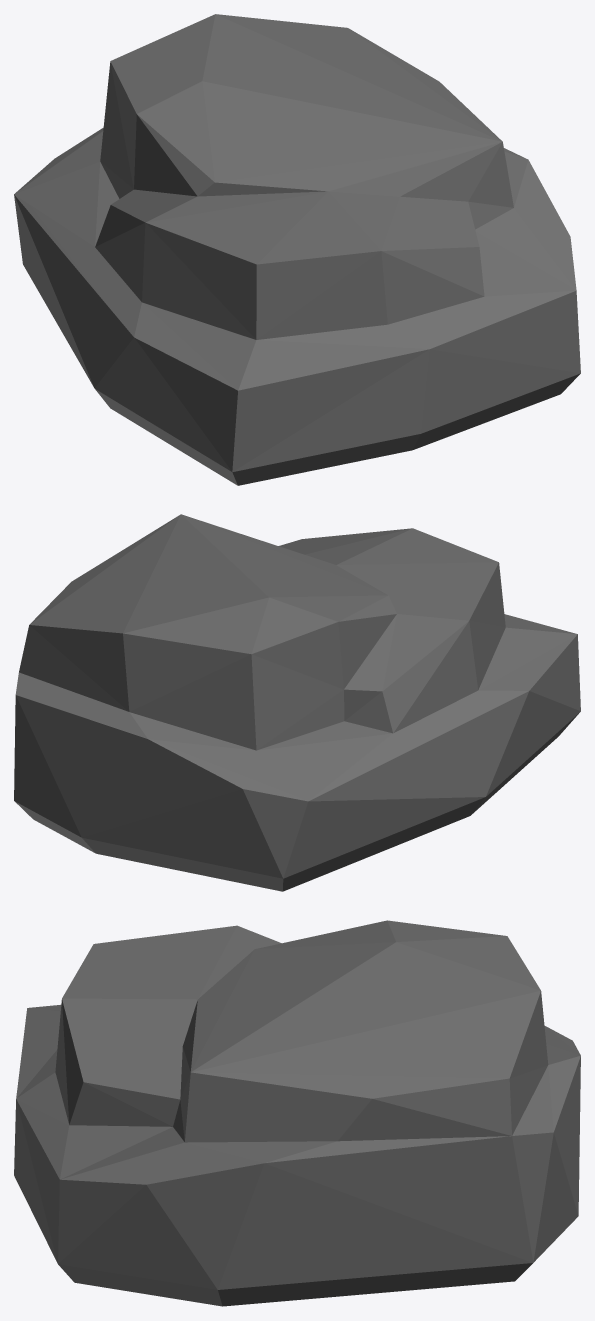
Rendered from rock__rock5_natural_medium.glb.
3 renders of one model, top to bottom at view 1: azimuth 30°, elevation 25°; view 2: azimuth 150°, elevation 25°; view 3: azimuth 270°, elevation 25°, orthographic. The views are drawn at different scales.
Visible parts, largest first — view 1: rock5.natural.medium; view 2: rock5.natural.medium; view 3: rock5.natural.medium.
Boxes of the visible parts, <box> form: rock5.natural.medium: <box>14,14,580,485</box>; rock5.natural.medium: <box>14,514,580,891</box>; rock5.natural.medium: <box>14,920,580,1306</box>.
Size of the model in its own units: 3.27 by 1.74 by 3.67.
Materials: 1 (1 with a texture image).
